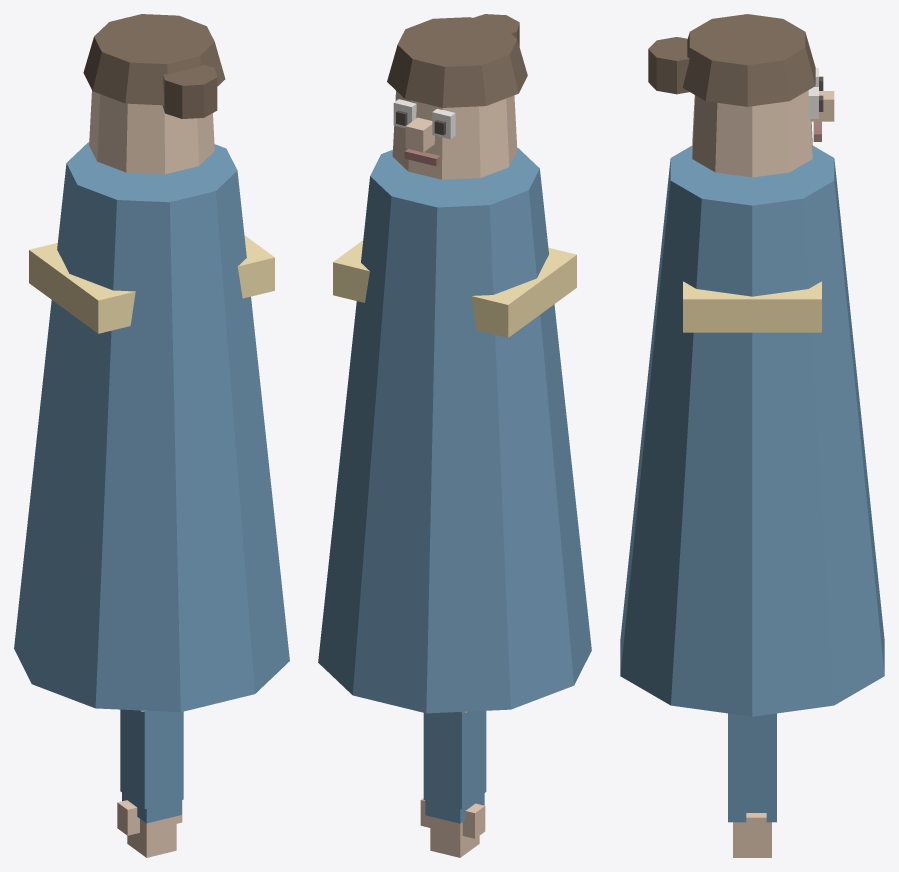
The model's file is npc_mara.glb.
The picture shows the model from 3 angles, left to right: view 1: azimuth 30°, elevation 25°; view 2: azimuth 150°, elevation 25°; view 3: azimuth 270°, elevation 25°; orthographic projection.
Parts seen in each view (by area): view 1: Torso, Hair, Head, Sash, LimbArmL, LimbLegL, HairBun, HandL, ThumbR; view 2: Torso, Hair, Head, Sash, LimbArmL, LimbLegL, HandL, Nose, ThumbR; view 3: Torso, Hair, Head, Sash, LimbArmL, HairBun, HandL, ThumbL, LimbLegL.
Boxes of the visible parts, x1,y1,x2,y2 form: Torso: (14, 142, 289, 712); Hair: (83, 14, 225, 105); Head: (89, 90, 214, 174); Sash: (29, 235, 274, 333); LimbArmL: (120, 709, 183, 808); LimbLegL: (122, 711, 181, 823); HairBun: (162, 64, 217, 118); HandL: (127, 816, 176, 857); ThumbR: (117, 800, 139, 835); Torso: (318, 148, 591, 713); Hair: (387, 17, 527, 107); Head: (392, 91, 517, 179); Sash: (333, 240, 576, 337); LimbArmL: (423, 710, 486, 809); LimbLegL: (425, 712, 484, 823); HandL: (430, 816, 479, 857); Nose: (405, 117, 434, 152); ThumbR: (462, 803, 485, 838); Torso: (620, 145, 884, 716); Hair: (682, 14, 815, 106); Head: (692, 90, 812, 177); Sash: (683, 281, 821, 332); LimbArmL: (728, 713, 776, 808); HairBun: (648, 37, 689, 94); HandL: (733, 822, 771, 857); ThumbL: (746, 813, 766, 843); LimbLegL: (728, 808, 776, 822).
Bounding box in the file's own units: 0.68 × 2.19 × 0.6467.
